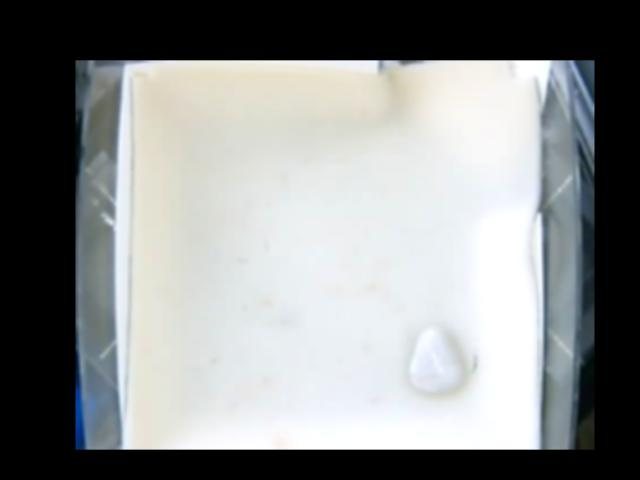Pebble: (408, 326, 464, 392)
